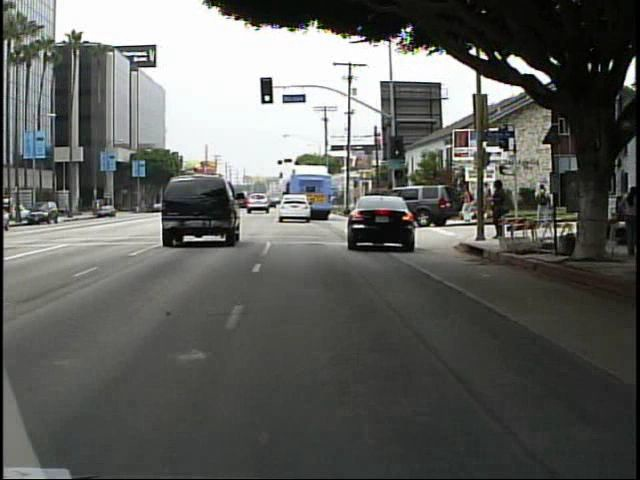person: (488, 175, 510, 245), (459, 181, 478, 227), (534, 181, 552, 221), (479, 180, 494, 224)
